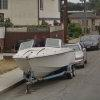Boat: (8, 31, 80, 92)
